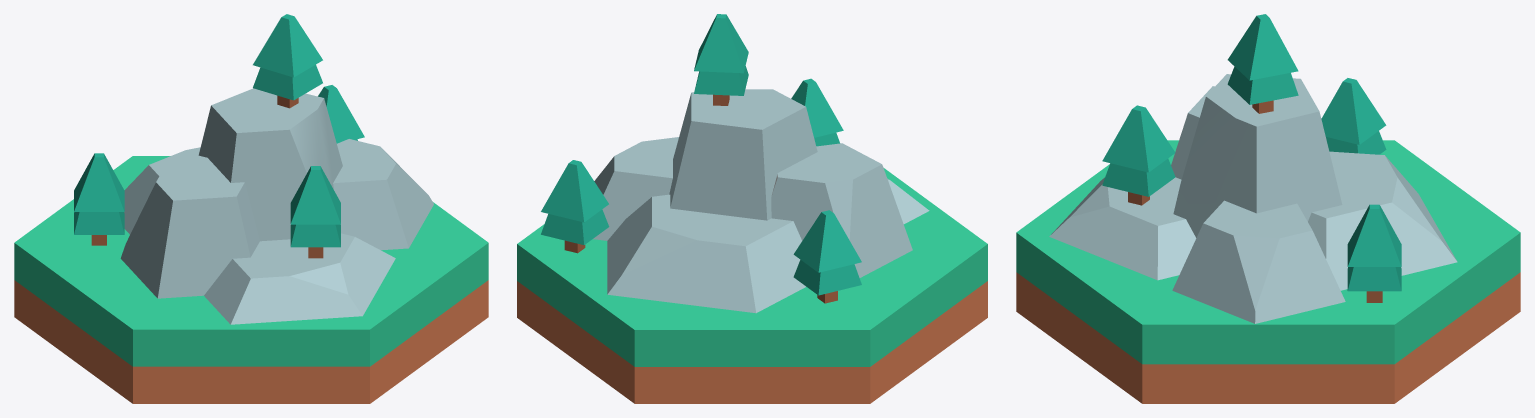
File: grass_hill.dae
The picture shows the model from 3 angles, left to right: view 1: azimuth 30°, elevation 25°; view 2: azimuth 150°, elevation 25°; view 3: azimuth 270°, elevation 25°; orthographic projection. The views are drawn at different scales.
Parts seen in each view (by area): view 1: grass_hill, rockLarge, tree (×4); view 2: grass_hill, rockLarge, tree (×4); view 3: grass_hill, rockLarge, tree (×4).
Boxes of the visible parts, x1=… form: grass_hill: x1=14, y1=156, x2=488, y2=403; rockLarge: x1=120, y1=88, x2=433, y2=324; tree (×4): x1=74, y1=14, x2=364, y2=258; grass_hill: x1=517, y1=168, x2=987, y2=403; rockLarge: x1=593, y1=89, x2=929, y2=313; tree (×4): x1=541, y1=14, x2=861, y2=303; grass_hill: x1=1016, y1=140, x2=1520, y2=403; rockLarge: x1=1049, y1=74, x2=1457, y2=323; tree (×4): x1=1102, y1=14, x2=1401, y2=302.
Size of the model in its own units: 1 by 0.7894 by 1.15.
